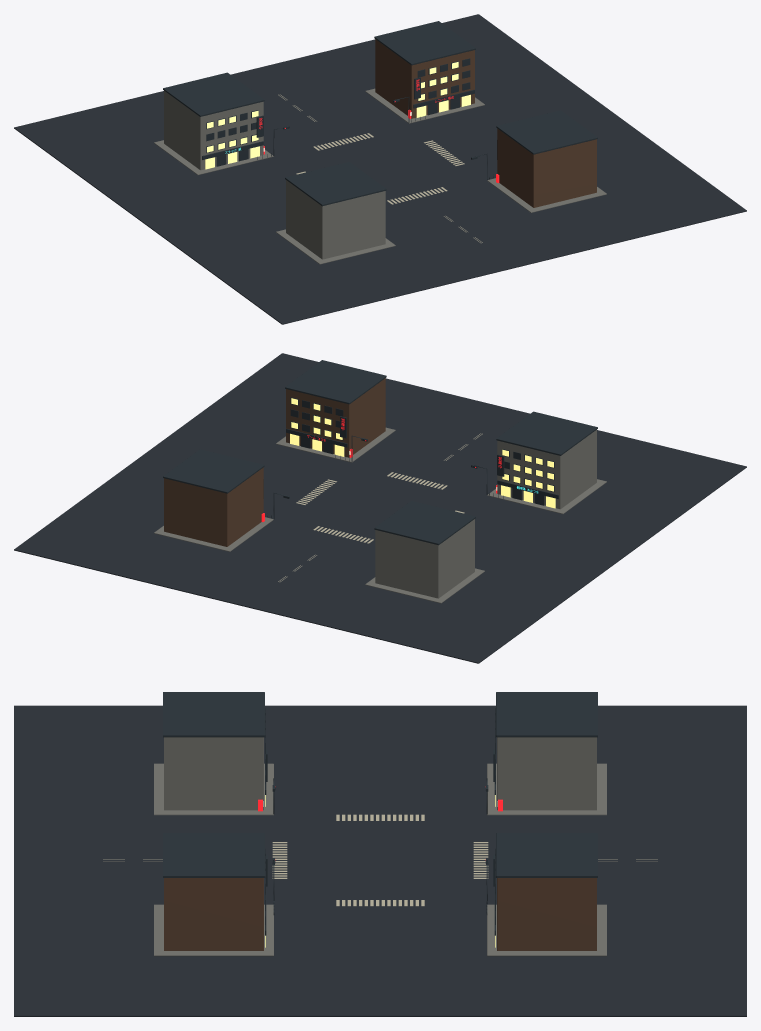
File: city.glb
3 views of the same model, one above another, from view 1: azimuth 30°, elevation 25°; view 2: azimuth 150°, elevation 25°; view 3: azimuth 270°, elevation 25° (orthographic). The views are drawn at different scales.
Visible parts, largest first — view 1: YK_Asphalt intersection, YK_Commercial building, YK_Commercial building.001, YK_Commercial building.002, YK_Commercial building.003, YK_Rooftop parapet.002, YK_Rooftop parapet.001, YK_Rooftop parapet.003, YK_Rooftop parapet, YK_Corner pavement, YK_Corner pavement.001, YK_Corner pavement.003 (+1 smaller); view 2: YK_Asphalt intersection, YK_Commercial building.002, YK_Commercial building.003, YK_Commercial building, YK_Commercial building.001, YK_Rooftop parapet, YK_Rooftop parapet.001, YK_Rooftop parapet.003, YK_Rooftop parapet.002, YK_Corner pavement.002, YK_Corner pavement.003, YK_Corner pavement.001 (+1 smaller); view 3: YK_Asphalt intersection, YK_Commercial building, YK_Commercial building.002, YK_Commercial building.001, YK_Commercial building.003, YK_Rooftop parapet, YK_Rooftop parapet.002, YK_Rooftop parapet.001, YK_Rooftop parapet.003, YK_Corner pavement.001, YK_Corner pavement.003, YK_Corner pavement (+1 smaller).
Boxes of the visible parts, x1,y1,x2,y2 form: YK_Asphalt intersection: (14, 14, 746, 324); YK_Commercial building: (286, 180, 385, 259); YK_Commercial building.001: (497, 128, 596, 207); YK_Commercial building.002: (164, 91, 263, 170); YK_Commercial building.003: (375, 39, 474, 118); YK_Rooftop parapet.002: (163, 72, 264, 116); YK_Rooftop parapet.001: (496, 110, 597, 154); YK_Rooftop parapet.003: (374, 21, 475, 65); YK_Rooftop parapet: (285, 162, 386, 206); YK_Corner pavement: (276, 229, 395, 264); YK_Corner pavement.001: (487, 178, 606, 212); YK_Corner pavement.003: (365, 88, 484, 123); YK_Asphalt intersection: (14, 353, 746, 663); YK_Commercial building.002: (375, 519, 474, 598); YK_Commercial building.003: (164, 467, 263, 546); YK_Commercial building: (497, 430, 596, 509); YK_Commercial building.001: (286, 378, 385, 457); YK_Rooftop parapet: (496, 411, 597, 455); YK_Rooftop parapet.001: (285, 360, 386, 404); YK_Rooftop parapet.003: (163, 449, 264, 493); YK_Rooftop parapet.002: (374, 501, 475, 545); YK_Corner pavement.002: (365, 568, 484, 603); YK_Corner pavement.003: (154, 517, 273, 551); YK_Corner pavement.001: (276, 427, 395, 462); YK_Asphalt intersection: (14, 705, 746, 1016); YK_Commercial building: (164, 737, 263, 810); YK_Commercial building.002: (497, 737, 596, 810); YK_Commercial building.001: (164, 878, 263, 950); YK_Commercial building.003: (497, 878, 596, 950); YK_Rooftop parapet: (163, 692, 264, 737); YK_Rooftop parapet.002: (496, 692, 597, 737); YK_Rooftop parapet.001: (163, 833, 264, 877); YK_Rooftop parapet.003: (496, 833, 597, 877); YK_Corner pavement.001: (154, 904, 273, 956); YK_Corner pavement.003: (487, 904, 606, 956); YK_Corner pavement: (154, 763, 273, 815).
Size of the model in its own units: 110 by 12.93 by 110.
